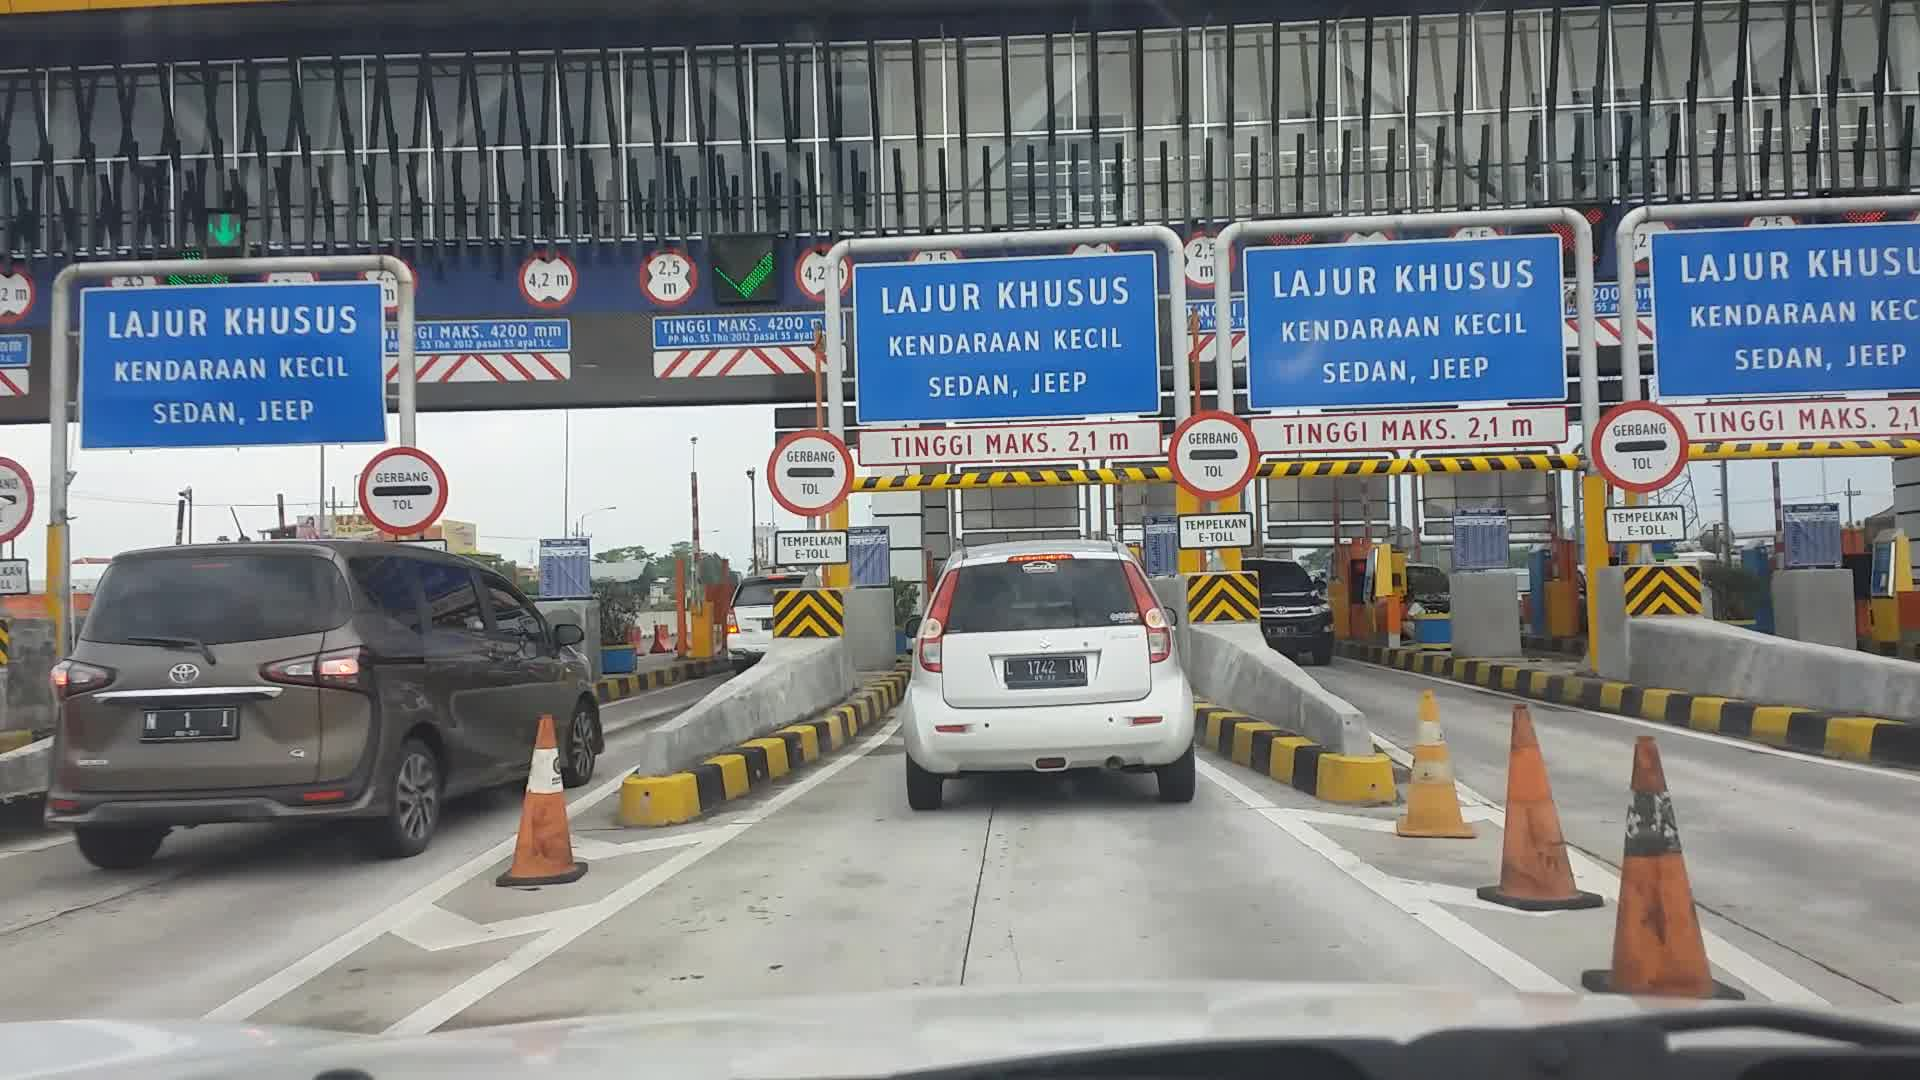plate_positive: (142, 705, 241, 740), (1004, 658, 1087, 686)
